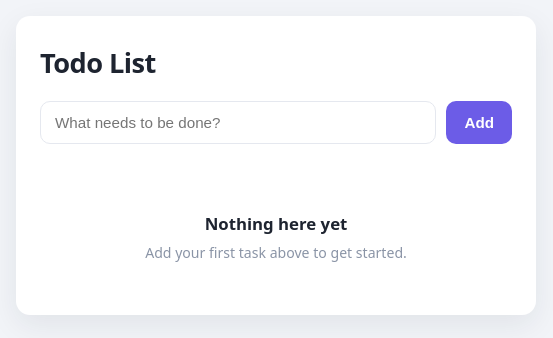
Test: Todo app › marks a todo as completed and updates count
Type "Wash car" into the field named "new todo text" at [238, 122], box [40,101,436,144]
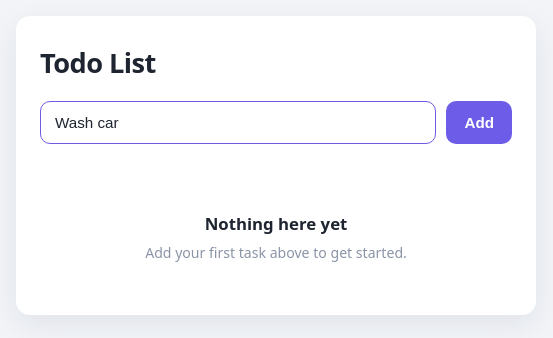
Click the button "Add" at [479, 122], box [446,101,512,144]
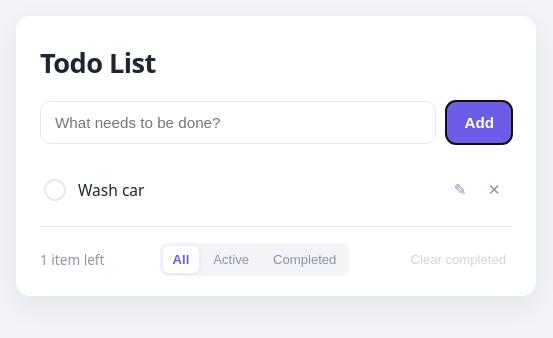
Click the checkbox named "mark \"wash car\" as completed" at [55, 190], box [44,179,66,201]
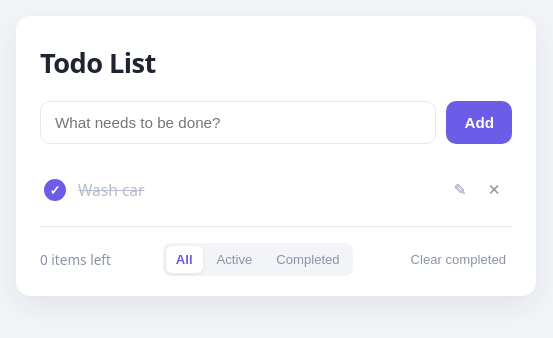
expect the text "0 items left" is shown: met, box [40,250,111,269]
